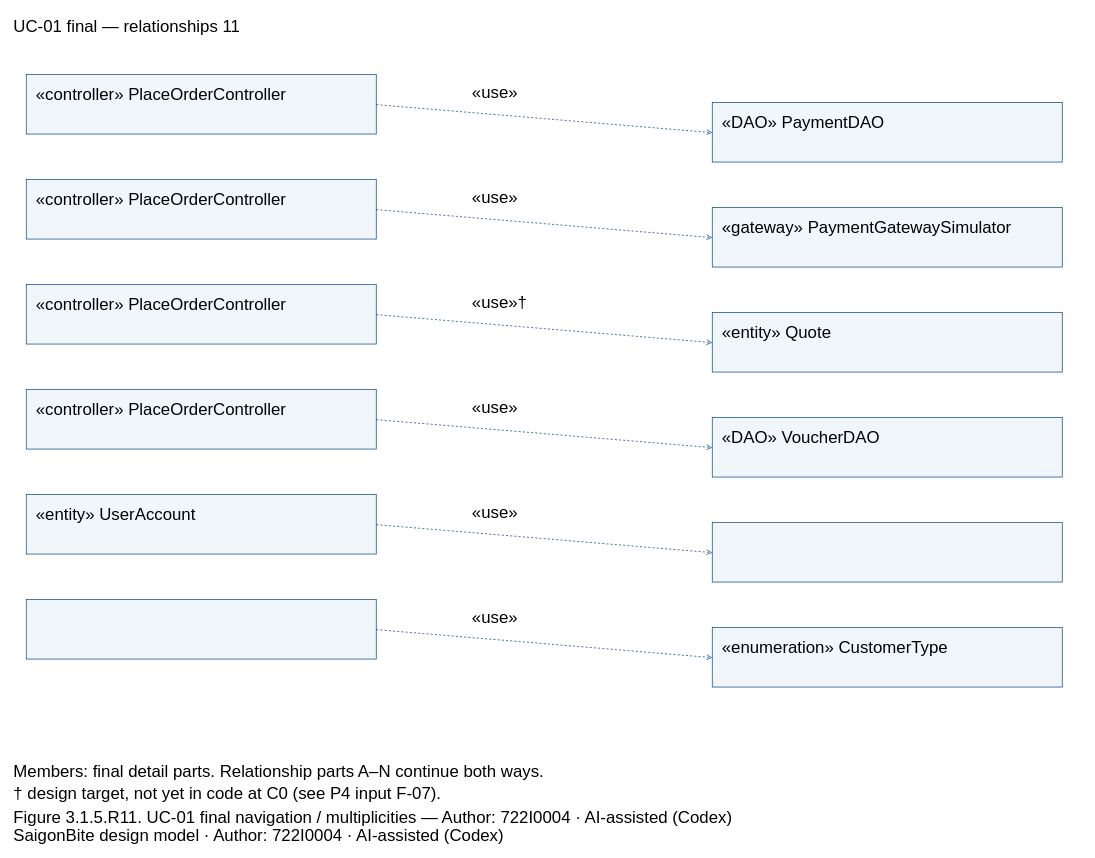
The diagram is 1095 pixels wide and 858 high, and some of its shapes have lost their labels. The shapes that lost their labels are listed below. From the top down, each one's centre as x and y in pixels, then its label:
At [887,552]: "«enumeration» Role".
At [201,629]: "«entity» Customer".
